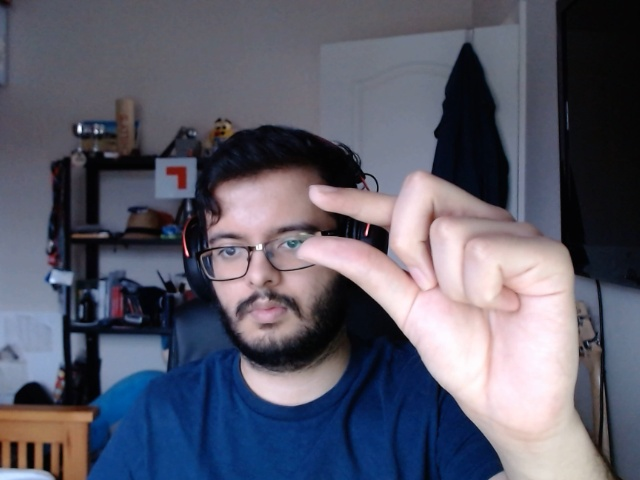Small: (292, 162, 604, 437)
